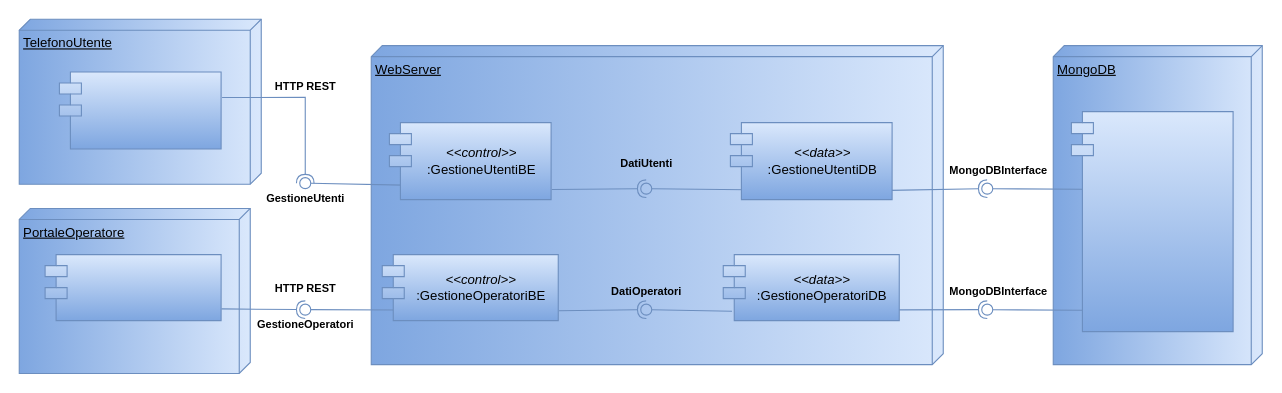
This 1282x393 diagram has some shape labels left out. Each missing label, with the centre of its shape:
"<<boundary>> :GestioneOperatoriFE" belongs at pixel 132 287.
"<<boundary>> :GestioneUtentiFE" belongs at pixel 139 110.
"<<controller>> :Database" belongs at pixel 1151 221.
